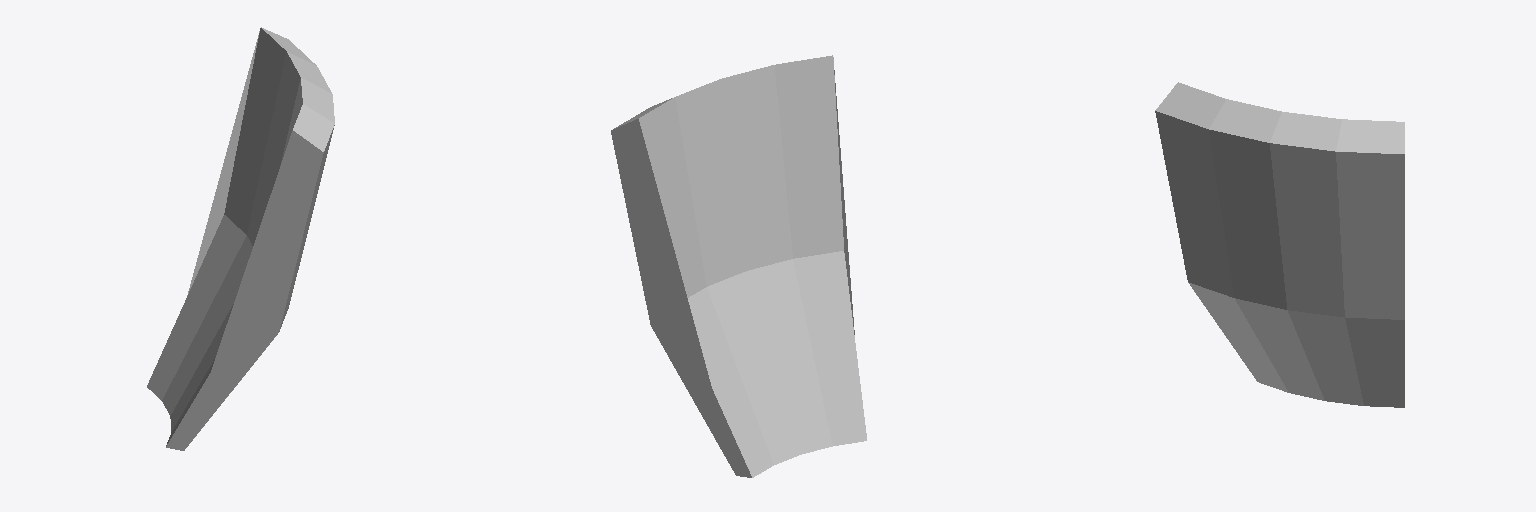
File: Level_3_5.obj
3 renders of one model, left to right at view 1: azimuth 30°, elevation 25°; view 2: azimuth 150°, elevation 25°; view 3: azimuth 270°, elevation 25°, orthographic.
Parts seen in each view (by area): view 1: Level_3_5_Cylinder.041; view 2: Level_3_5_Cylinder.041; view 3: Level_3_5_Cylinder.041.
Part boxes in pixels (x1,y1,x2,y2): Level_3_5_Cylinder.041: (147, 27, 334, 450); Level_3_5_Cylinder.041: (611, 55, 866, 477); Level_3_5_Cylinder.041: (1155, 82, 1404, 407).
Bounding box in the file's own units: 1.33 × 2.23 × 1.51.